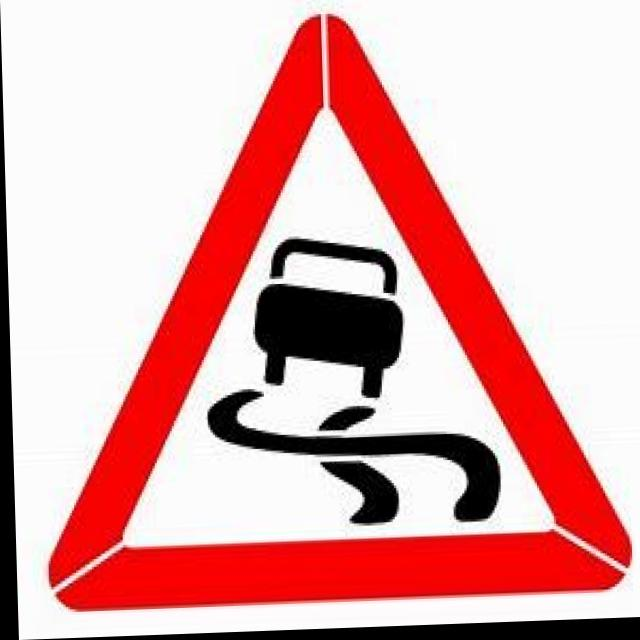SLIPPERY_ROAD: (37, 0, 638, 623)
